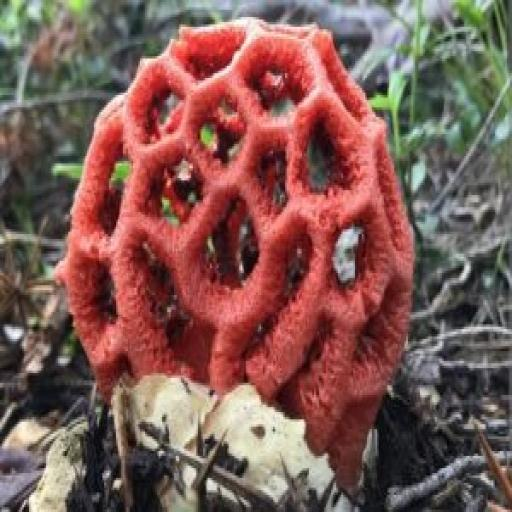mushroom: (10, 0, 490, 488)
